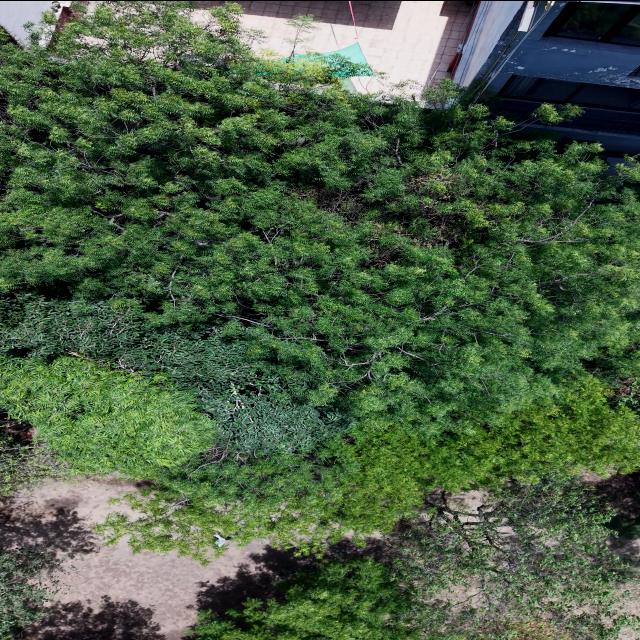DRY_AREA: (0, 477, 304, 639), (0, 478, 294, 639)
VEGETATION_TREE: (0, 1, 639, 561), (1, 4, 639, 447), (1, 3, 639, 432), (98, 376, 639, 559), (192, 481, 639, 639), (0, 293, 350, 464), (97, 428, 427, 561), (389, 480, 639, 639), (190, 559, 581, 639), (0, 357, 215, 477), (425, 372, 639, 487), (191, 558, 419, 639), (0, 520, 72, 639), (0, 540, 66, 639), (0, 418, 76, 495), (604, 514, 639, 539)
